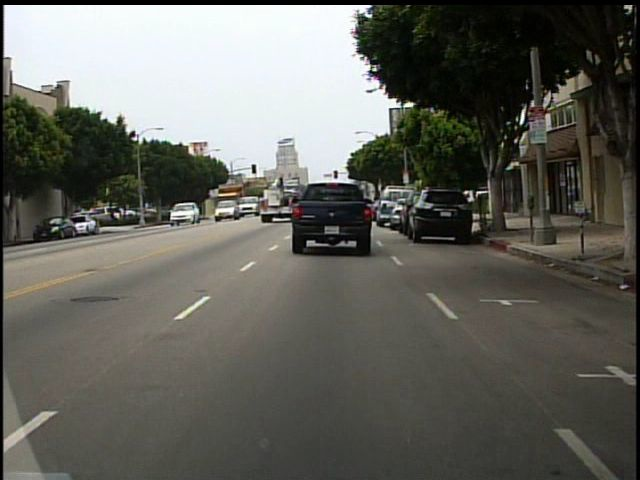person: (464, 182, 478, 224)
